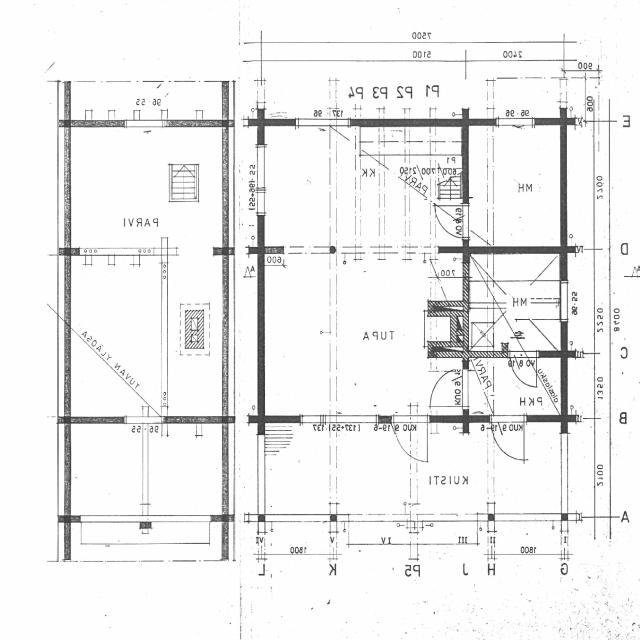door: (394, 415, 428, 462), (430, 368, 469, 407), (492, 415, 524, 461), (436, 205, 469, 238), (510, 350, 537, 389)
